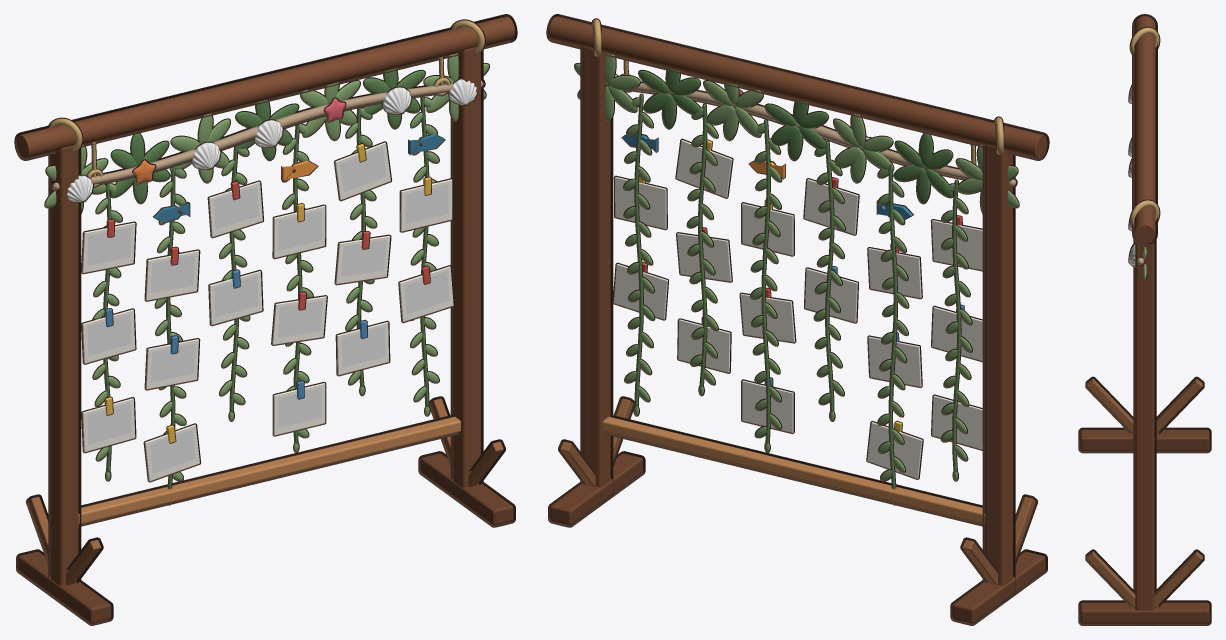
The model's file is PhotoBoard.fbx.
3 renders of one model, left to right at view 1: azimuth 30°, elevation 25°; view 2: azimuth 150°, elevation 25°; view 3: azimuth 270°, elevation 25°, orthographic. The views are drawn at different scales.
Visible parts, largest first — view 1: Pb_Beam, Pb_Post-1, Pb_Post1, Pb_Crossbar, Pb_Branch, Pb_Foot1, Pb_Foot-1, Pb_VineLeaves5, Pb_Leaves1, Pb_VineLeaves2, Pb_Leaves4, Pb_VineLeaves3 (+47 smaller); view 2: Pb_Beam, Pb_Post-1, Pb_Post1, Pb_Crossbar, Pb_VineLeaves3, Pb_VineLeaves1, Pb_VineLeaves5, Pb_Foot1, Pb_Foot-1, Pb_VineLeaves4, Pb_VineLeaves0, Pb_VineLeaves2 (+33 smaller); view 3: Pb_Post1, Pb_Beam, Pb_Foot1, Pb_Foot-1, Pb_Brace1-1, Pb_Brace11, Pb_Brace-1-1, Pb_Brace-11, Pb_Lash-1, Pb_Lash1.
Part boxes in pixels (left/top/right/bottom): Pb_Beam: left=14, top=14, right=517, bottom=160; Pb_Post-1: left=48, top=145, right=81, bottom=602; Pb_Post1: left=450, top=47, right=483, bottom=504; Pb_Crossbar: left=78, top=414, right=460, bottom=526; Pb_Branch: left=51, top=80, right=485, bottom=191; Pb_Foot1: left=418, top=451, right=515, bottom=527; Pb_Foot-1: left=16, top=549, right=113, bottom=625; Pb_VineLeaves5: left=410, top=97, right=439, bottom=416; Pb_Leaves1: left=110, top=133, right=170, bottom=204; Pb_VineLeaves2: left=219, top=148, right=250, bottom=421; Pb_Leaves4: left=300, top=80, right=360, bottom=141; Pb_VineLeaves3: left=281, top=123, right=313, bottom=452; Pb_Beam: left=546, top=14, right=1049, bottom=160; Pb_Post-1: left=982, top=144, right=1015, bottom=602; Pb_Post1: left=580, top=46, right=613, bottom=504; Pb_Crossbar: left=603, top=414, right=985, bottom=526; Pb_VineLeaves3: left=750, top=123, right=782, bottom=452; Pb_VineLeaves1: left=877, top=169, right=909, bottom=505; Pb_VineLeaves5: left=623, top=97, right=655, bottom=416; Pb_Foot1: left=548, top=451, right=645, bottom=527; Pb_Foot-1: left=950, top=549, right=1047, bottom=625; Pb_VineLeaves4: left=686, top=107, right=718, bottom=396; Pb_VineLeaves0: left=940, top=183, right=972, bottom=481; Pb_VineLeaves2: left=813, top=148, right=845, bottom=421; Pb_Post1: left=1133, top=239, right=1156, bottom=625; Pb_Beam: left=1132, top=14, right=1157, bottom=245; Pb_Foot1: left=1078, top=600, right=1211, bottom=625; Pb_Foot-1: left=1078, top=427, right=1211, bottom=453; Pb_Brace1-1: left=1085, top=549, right=1135, bottom=607; Pb_Brace11: left=1154, top=549, right=1204, bottom=607; Pb_Brace-1-1: left=1085, top=376, right=1133, bottom=434; Pb_Brace-11: left=1156, top=376, right=1204, bottom=434; Pb_Lash-1: left=1129, top=26, right=1160, bottom=54; Pb_Lash1: left=1129, top=199, right=1160, bottom=227.
Size of the model in its own units: 2.32 by 2.16 by 0.6197.
